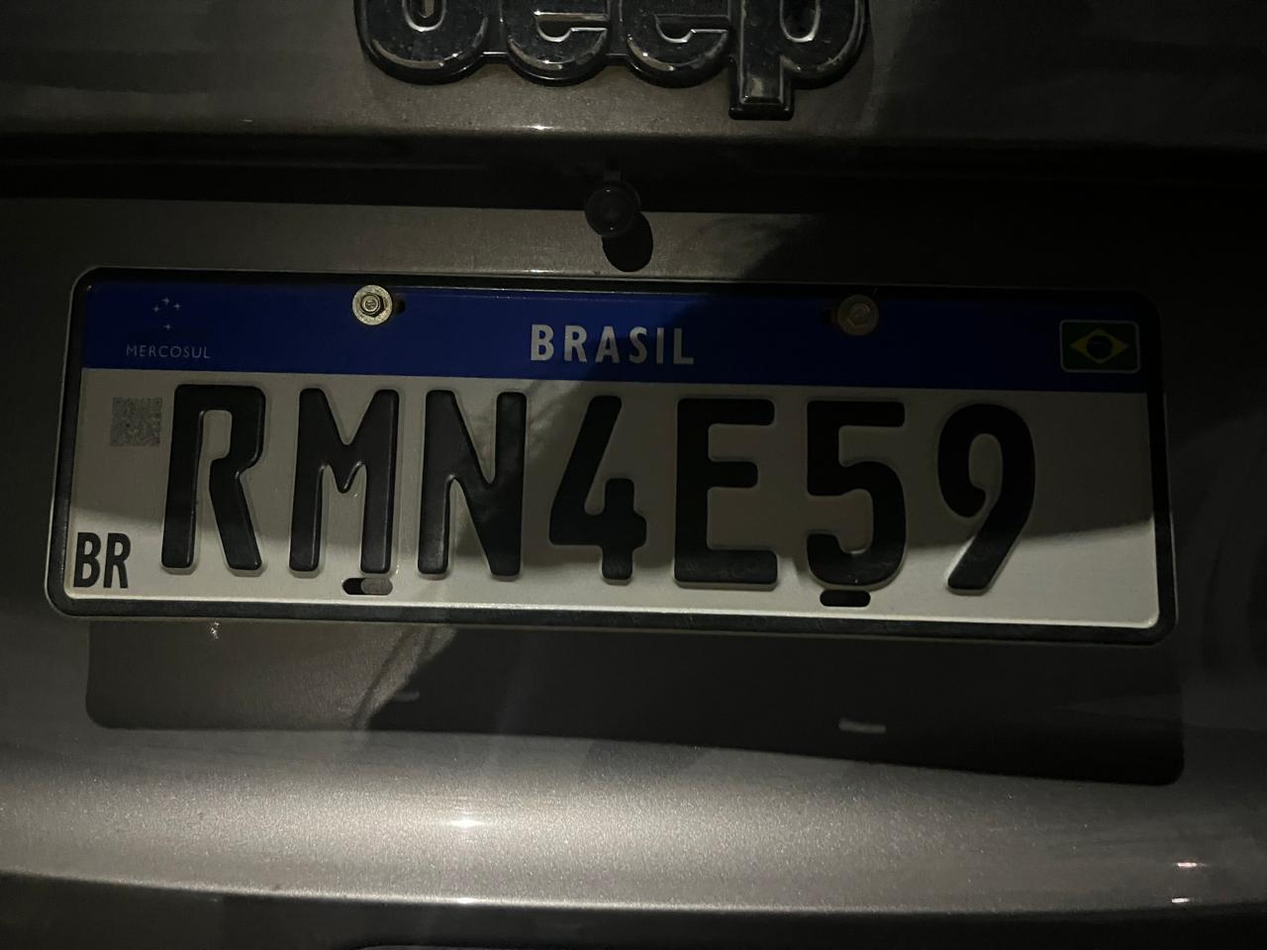9: (937, 396, 1051, 601)
E: (673, 390, 790, 597)
J: (791, 392, 925, 589), (555, 388, 660, 593)
M: (295, 382, 407, 587)
N: (406, 382, 527, 592)
R: (155, 369, 286, 590)
